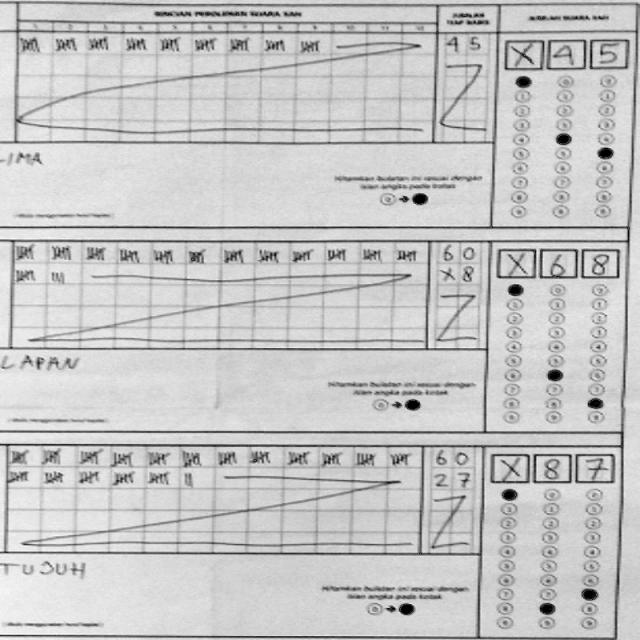Suara: (498, 31, 631, 69), (494, 242, 620, 282), (484, 447, 614, 485)
